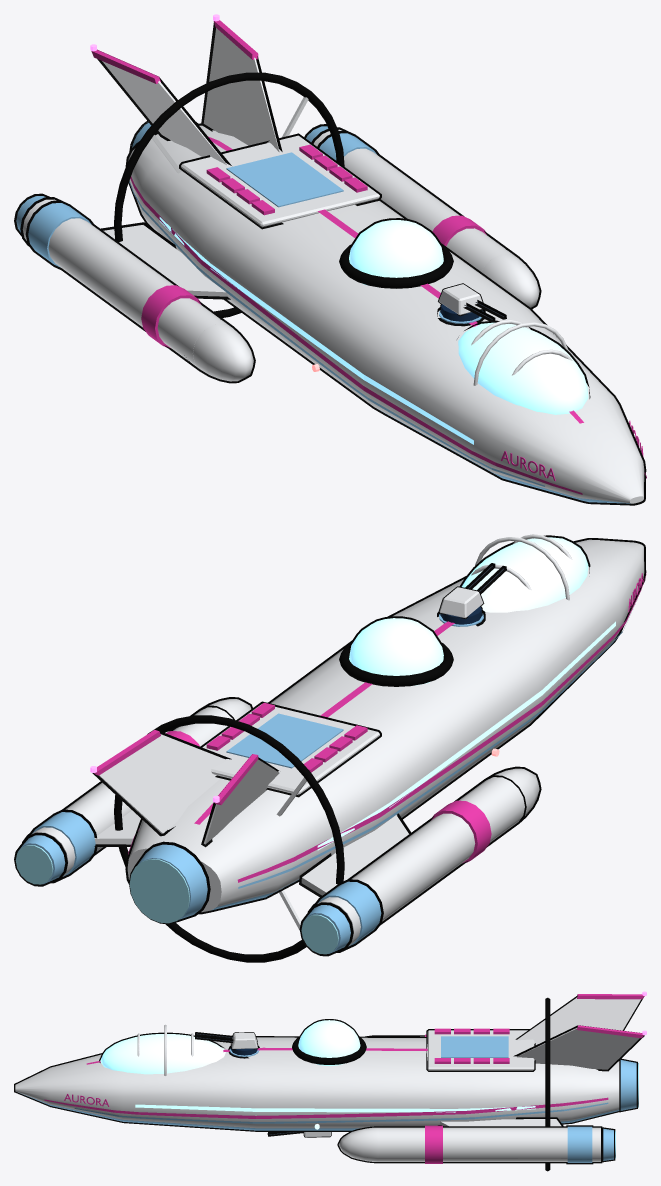
Rendered from Frigate_Liner.fbx.
3 views of the same model, one above another, from view 1: azimuth 30°, elevation 25°; view 2: azimuth 150°, elevation 25°; view 3: azimuth 270°, elevation 25° (orthographic). The views are drawn at different scales.
Parts seen in each view (by area): view 1: Hull, Nacelle-1_Body, SkyLounge_Glass, SunDeck, Nacelle1_Body, FinV1, ObsDome_Glass, FinV-1, PoolRim, Halo, Nacelle-1_Pylon, Nacelle-1_Nose (+11 smaller); view 2: Hull, Nacelle-1_Body, FinV1, SkyLounge_Glass, ObsDome_Glass, Halo, SunDeck, Nacelle1_Body, PoolRim, MainGlow, Nacelle-1_Pylon, MainBell (+20 smaller); view 3: Hull, Nacelle1_Body, SkyLounge_Glass, FinV1, FinV-1, SunDeck, ObsDome_Glass, Mk_Swooshside+, Promenadeside+, PoolRim, Nacelle1_Nose, Mk_SwooshBside+ (+12 smaller).
Boxes of the visible parts, x1=… form: Hull: x1=125, y1=123, x2=646, y2=505; Nacelle-1_Body: x1=20, y1=197, x2=231, y2=369; SkyLounge_Glass: x1=457, y1=320, x2=590, y2=414; SunDeck: x1=179, y1=133, x2=381, y2=229; Nacelle1_Body: x1=311, y1=127, x2=517, y2=271; FinV1: x1=201, y1=23, x2=282, y2=152; ObsDome_Glass: x1=348, y1=218, x2=444, y2=285; FinV-1: x1=97, y1=50, x2=231, y2=165; PoolRim: x1=226, y1=152, x2=343, y2=207; Halo: x1=114, y1=72, x2=344, y2=317; Nacelle-1_Pylon: x1=101, y1=222, x2=230, y2=299; Nacelle-1_Nose: x1=184, y1=319, x2=255, y2=383; Hull: x1=125, y1=538, x2=646, y2=914; Nacelle-1_Body: x1=307, y1=775, x2=526, y2=952; FinV1: x1=92, y1=731, x2=231, y2=836; SkyLounge_Glass: x1=459, y1=535, x2=590, y2=612; ObsDome_Glass: x1=348, y1=616, x2=445, y2=685; Halo: x1=114, y1=715, x2=344, y2=962; SunDeck: x1=200, y1=701, x2=381, y2=797; Nacelle1_Body: x1=22, y1=705, x2=234, y2=883; PoolRim: x1=226, y1=713, x2=343, y2=768; MainGlow: x1=129, y1=859, x2=189, y2=923; Nacelle-1_Pylon: x1=299, y1=813, x2=411, y2=897; MainBell: x1=129, y1=841, x2=210, y2=924; Hull: x1=14, y1=1036, x2=620, y2=1131; Nacelle1_Body: x1=379, y1=1126, x2=602, y2=1163; SkyLounge_Glass: x1=99, y1=1032, x2=225, y2=1074; FinV1: x1=513, y1=1025, x2=644, y2=1071; FinV-1: x1=515, y1=996, x2=643, y2=1044; SunDeck: x1=426, y1=1029, x2=535, y2=1071; ObsDome_Glass: x1=297, y1=1019, x2=360, y2=1066; Mk_Swooshside+: x1=44, y1=1097, x2=608, y2=1118; Promenadeside+: x1=135, y1=1104, x2=535, y2=1112; PoolRim: x1=441, y1=1036, x2=508, y2=1057; Nacelle1_Nose: x1=337, y1=1126, x2=389, y2=1163; Mk_SwooshBside+: x1=74, y1=1102, x2=608, y2=1123.
Bounding box in the file's own units: 24.78 × 16.94 × 61.58.
